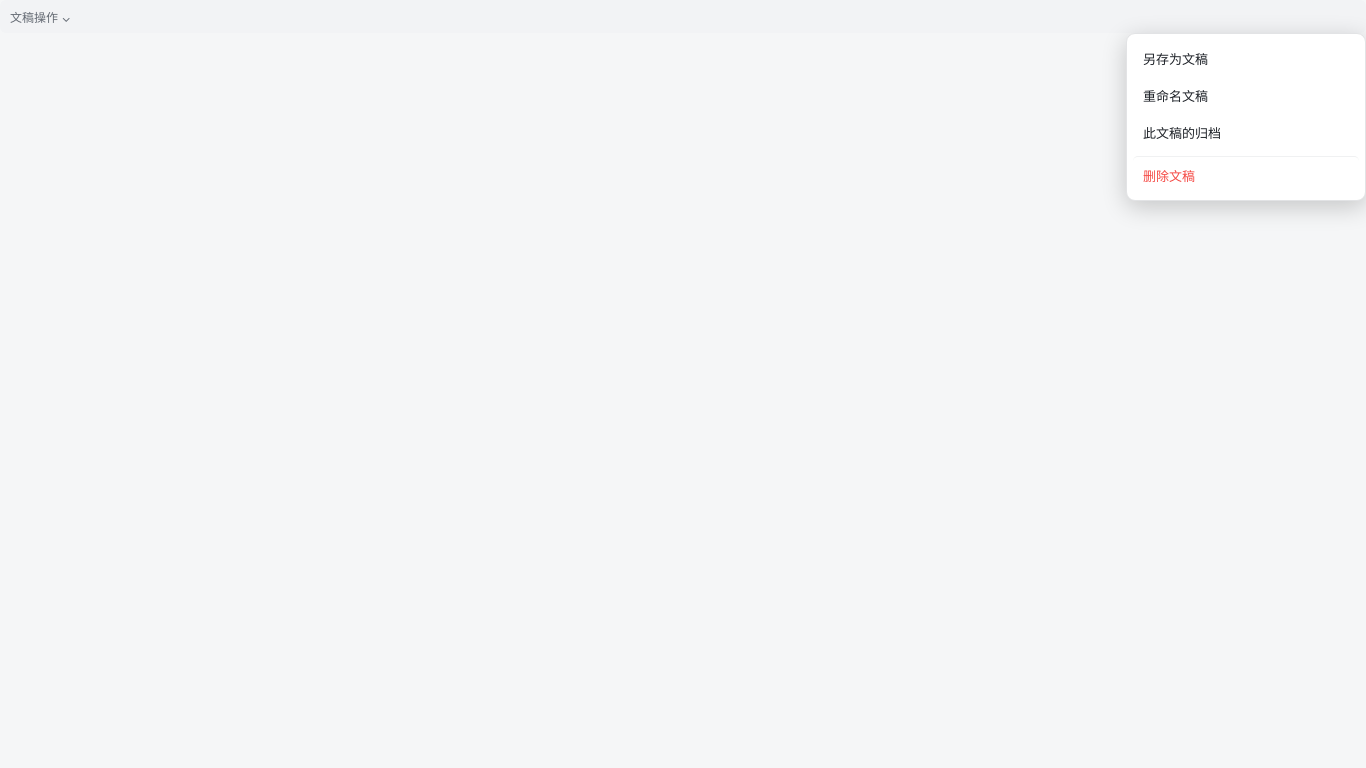
文稿操作与原稿保护 › 复制失败保留名称和原稿，不发出打开事件
Click the button "另存为文稿": (1246, 58) [1133,40,1359,77]
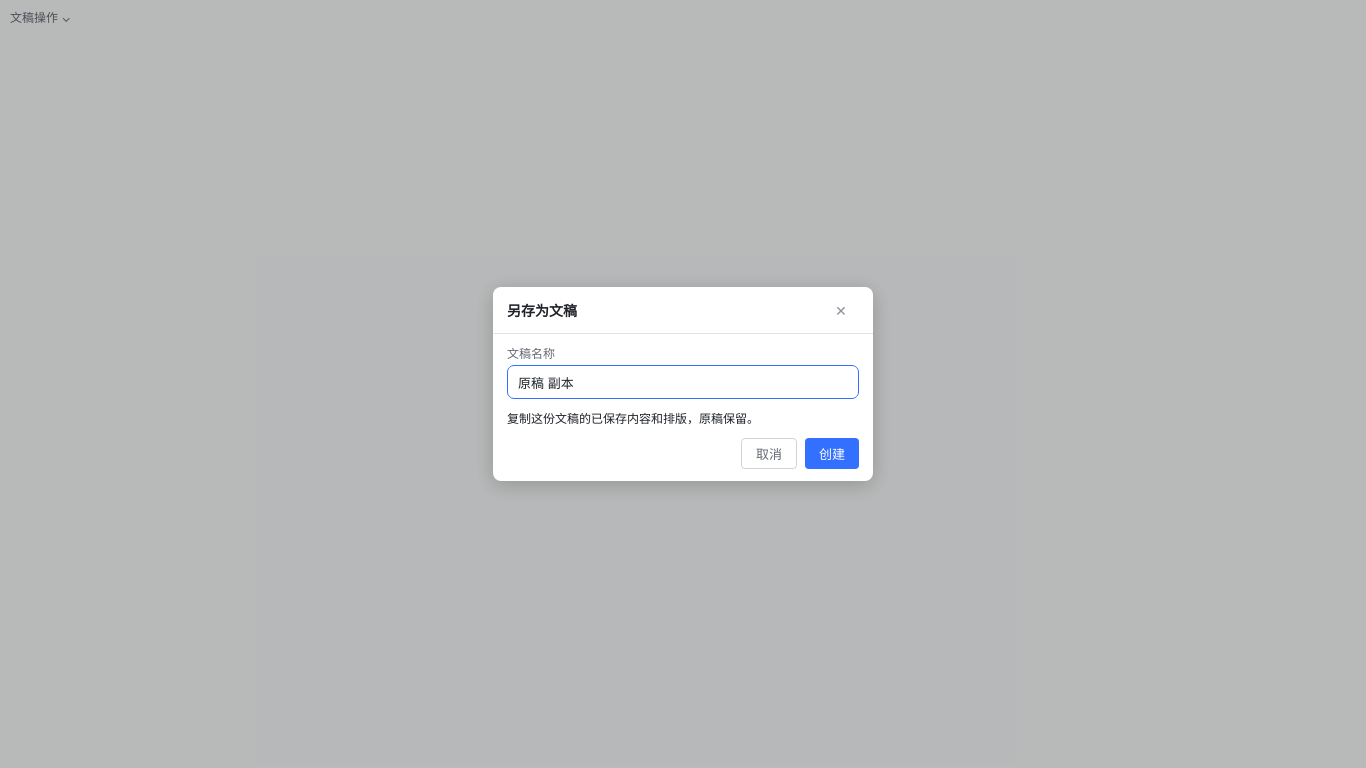
Replace the text in the field with test id "version-name-input" with "保留这个名称": (683, 382) [507,365,859,399]
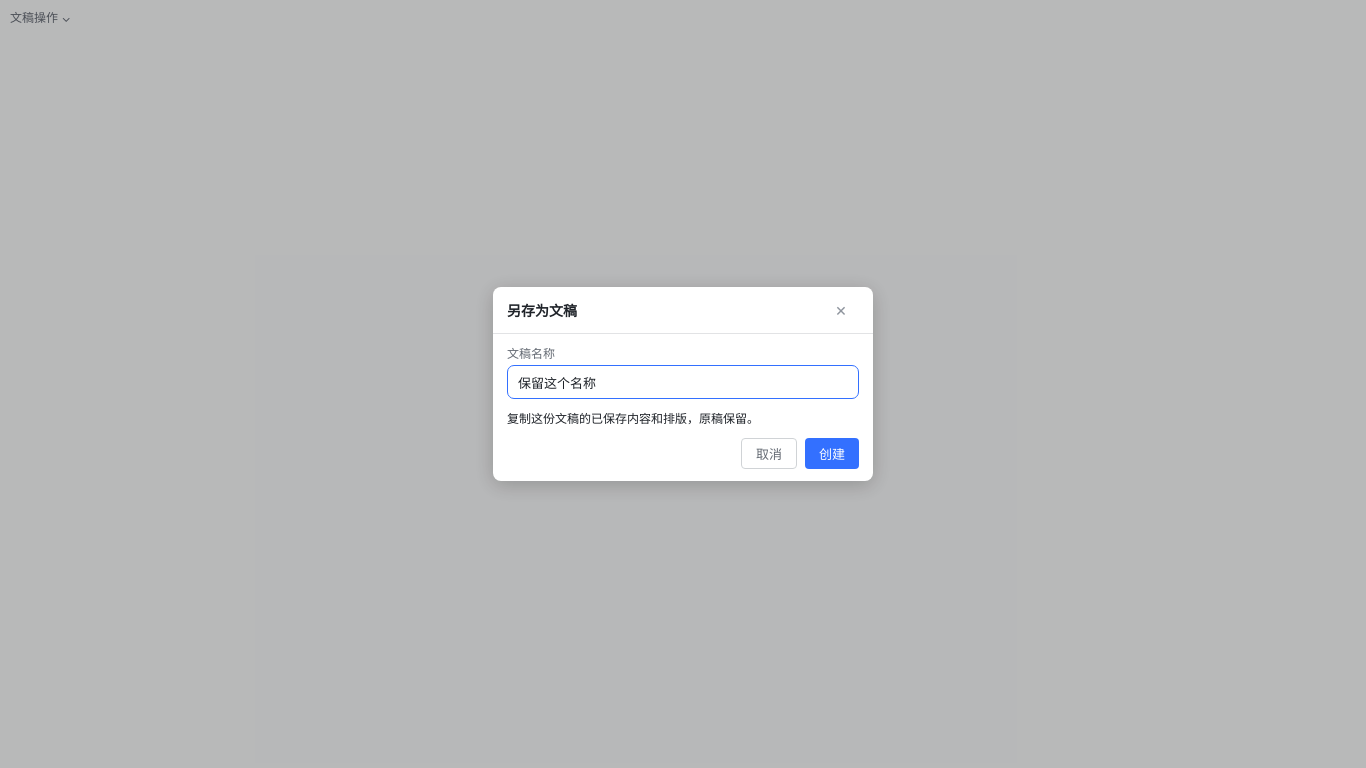
Submit the form, box [493,287,873,481]
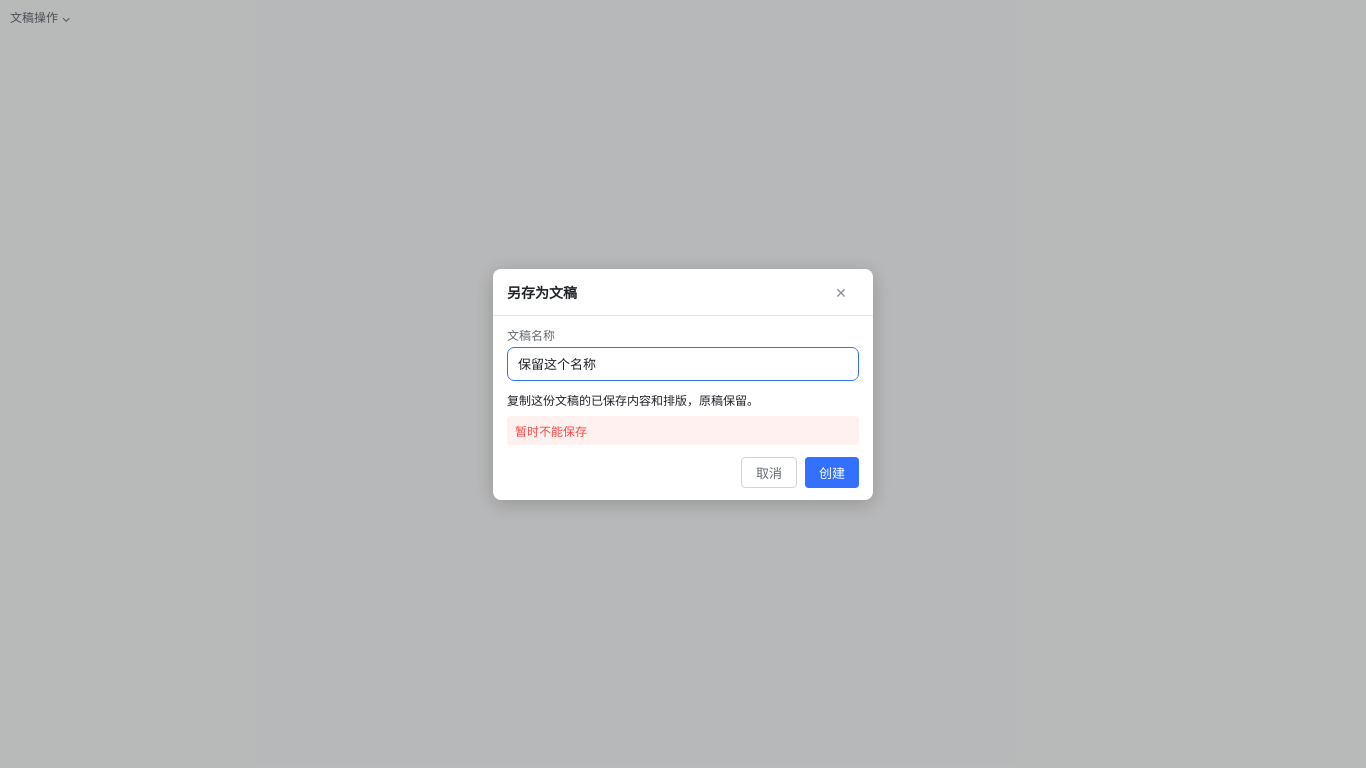
Now the message "暂时不能保存" is shown, box [507,416,859,444]
